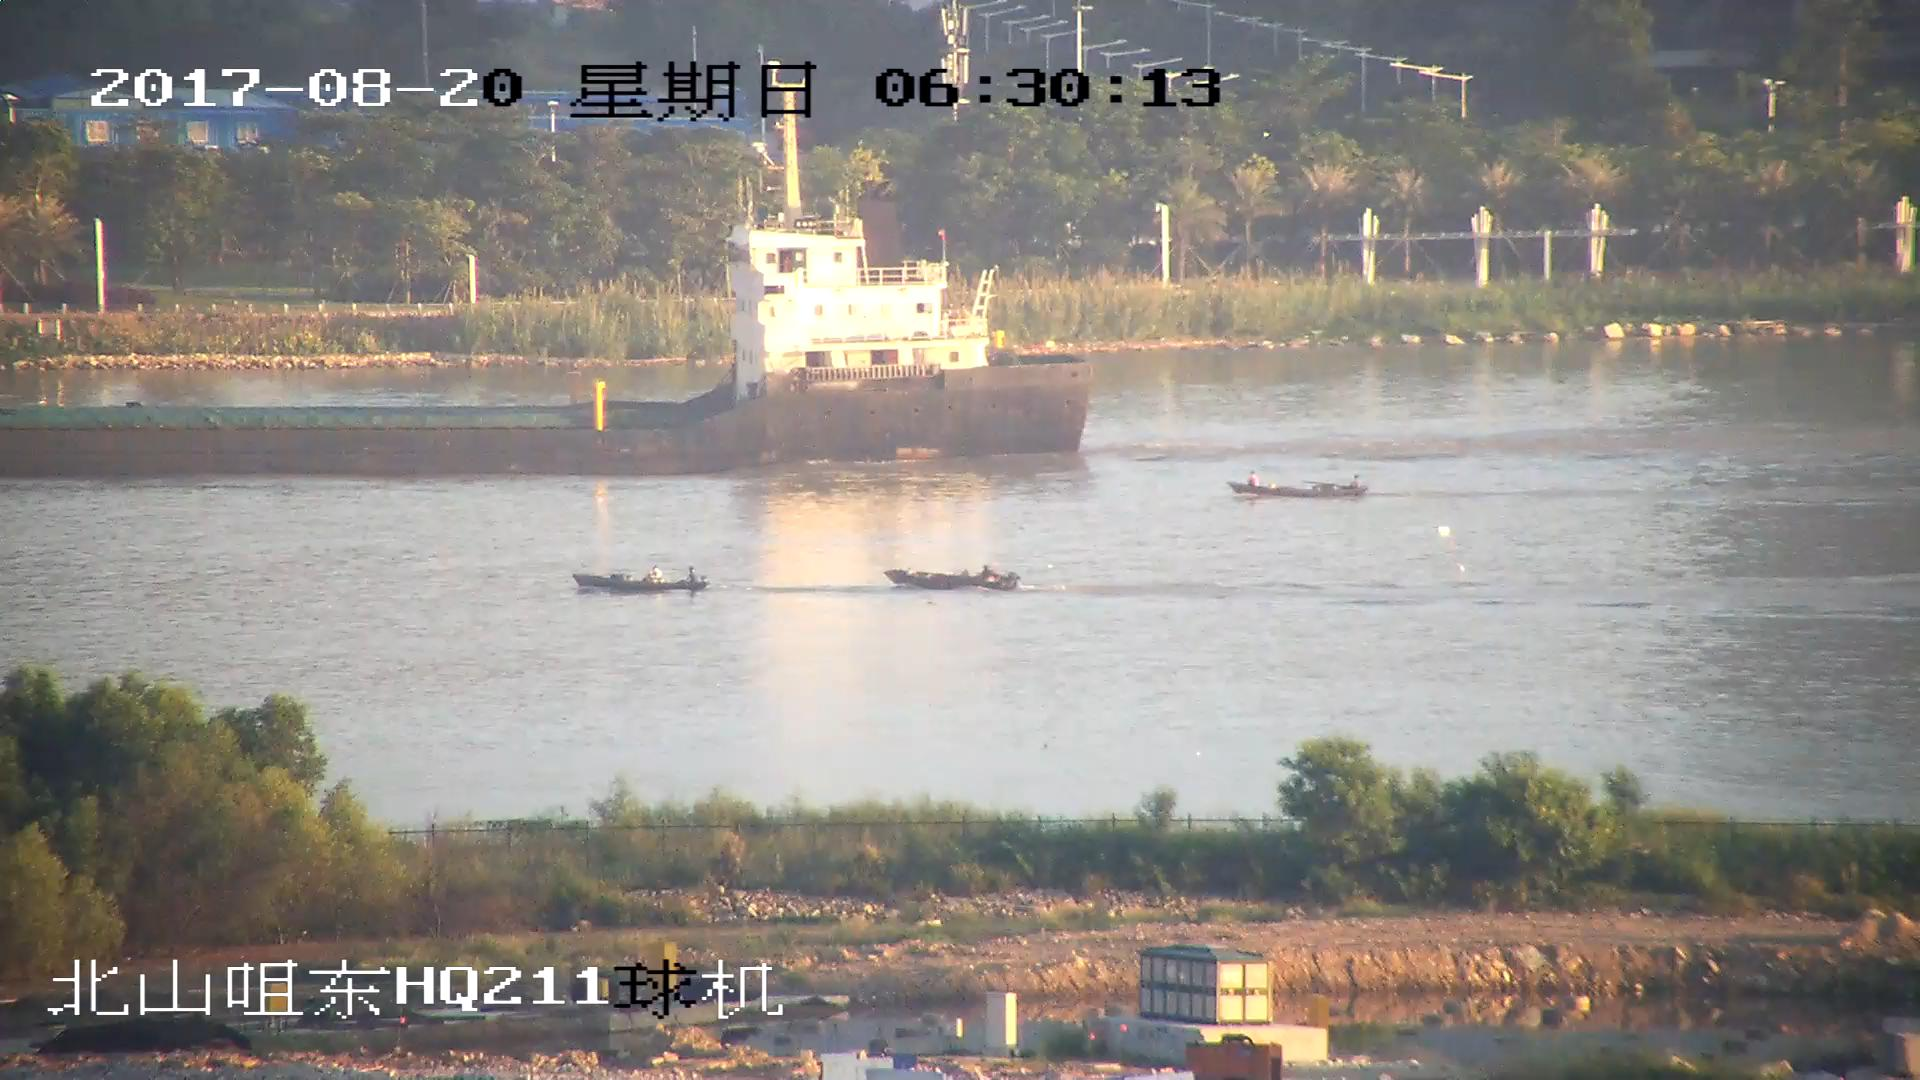fishing boat: (891, 558, 1025, 596), (1231, 470, 1361, 504), (575, 568, 707, 594)
general cargo ship: (1, 117, 1093, 470)
